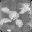people: (19, 3, 30, 14), (8, 11, 19, 20), (0, 18, 11, 25), (1, 7, 10, 15), (16, 20, 24, 28)
